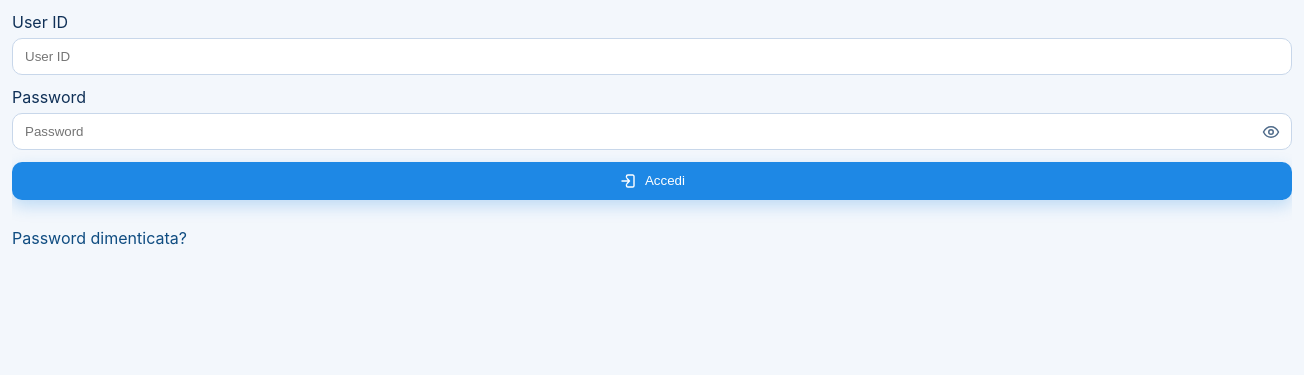
Scenario: LoginForm Component › displays validation error when form is submitted empty
Click the button "Accedi".
click(652, 181)  # box [12,162,1292,200]
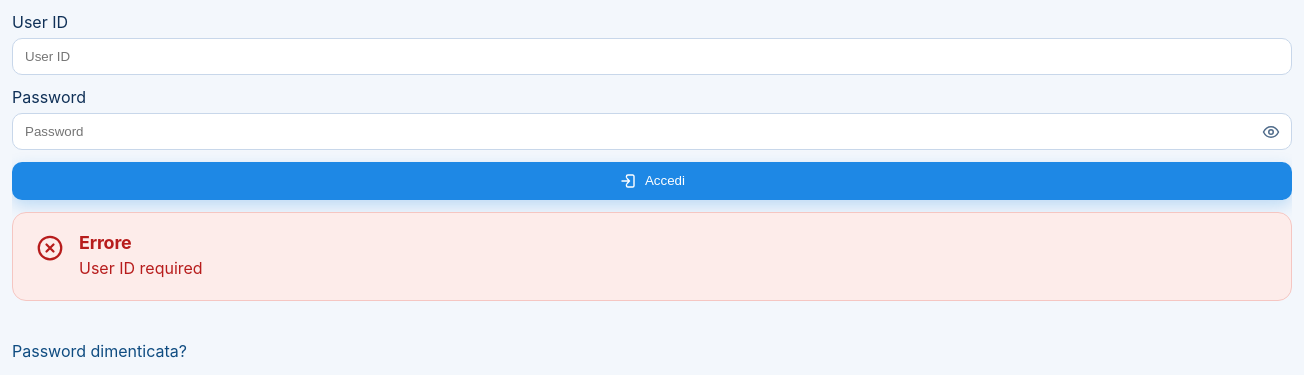
expect the text "User ID required" is shown: met, box [79,258,203,278]
